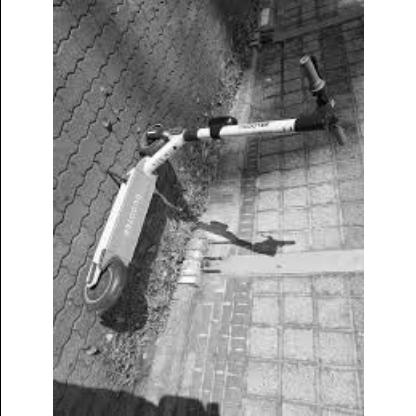bike: (83, 54, 347, 335)
